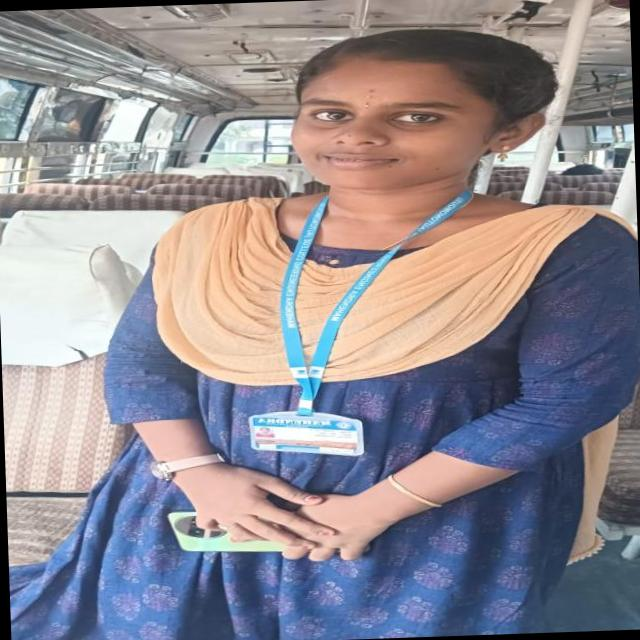id_card: (240, 188, 450, 450)
